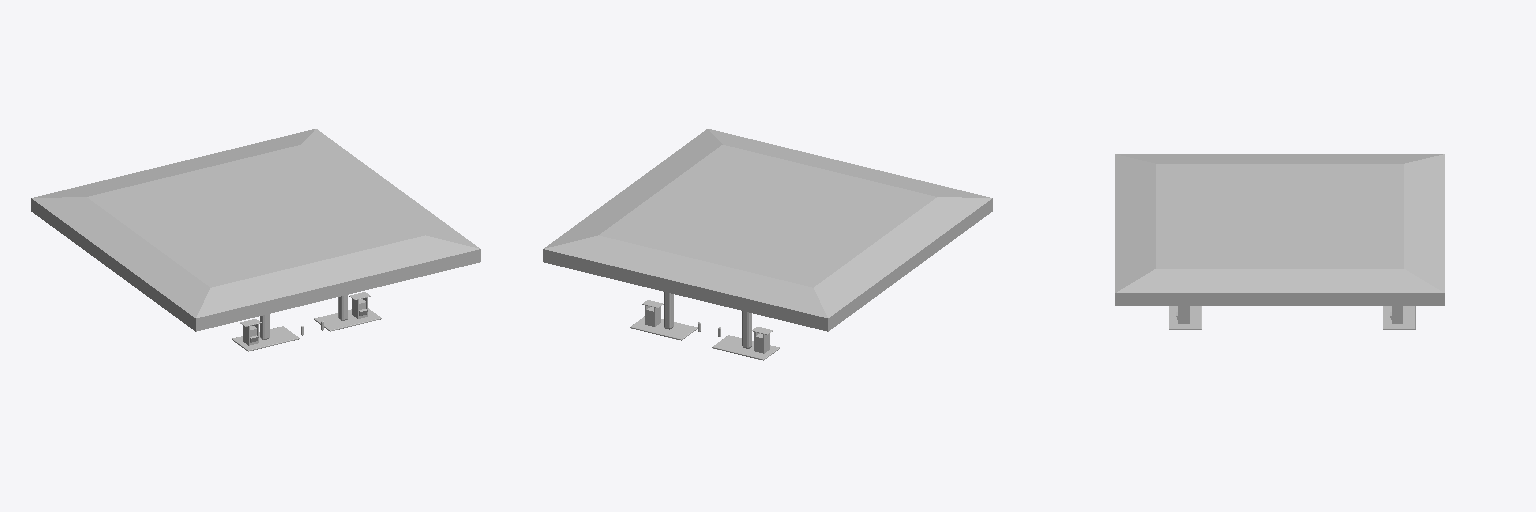
File: Gas Station 001.obj
3 views of the same model, side by side, from view 1: azimuth 30°, elevation 25°; view 2: azimuth 150°, elevation 25°; view 3: azimuth 270°, elevation 25° (orthographic).
Visible parts, largest first — view 1: pCube44; view 2: pCube44; view 3: pCube44.
Part boxes in pixels (x1,y1,x2,y2): pCube44: (31, 129, 480, 351); pCube44: (543, 129, 992, 360); pCube44: (1115, 154, 1444, 329).
Size of the model in its own units: 1.91 by 0.5093 by 1.91.